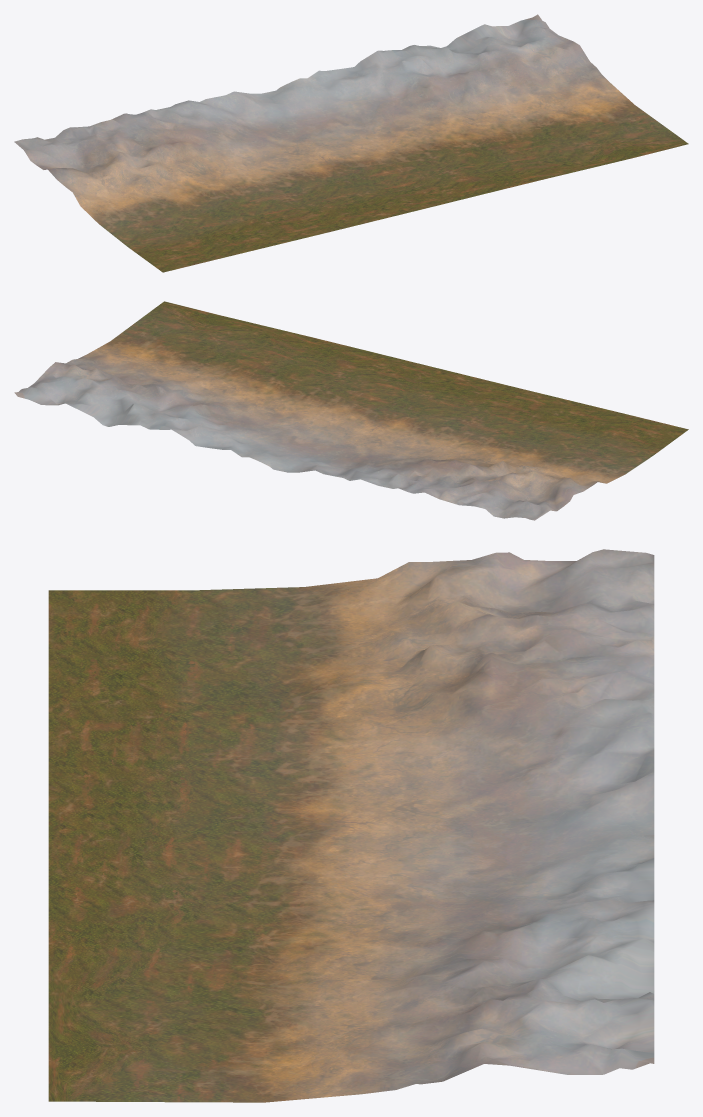
Rendered from terrain_valley.obj.
3 renders of one model, top to bottom at view 1: azimuth 30°, elevation 25°; view 2: azimuth 150°, elevation 25°; view 3: azimuth 270°, elevation 25°, orthographic. The views are drawn at different scales.
Visible parts, largest first — view 1: TerrainValley; view 2: TerrainValley; view 3: TerrainValley.
Boxes of the visible parts, x1,y1,x2,y2 form: TerrainValley: [14, 14, 688, 272]; TerrainValley: [14, 301, 688, 520]; TerrainValley: [48, 549, 654, 1102].
Bounding box in the file's own units: 2400 × 99.83 × 1200.
1 material, 1 textured.
